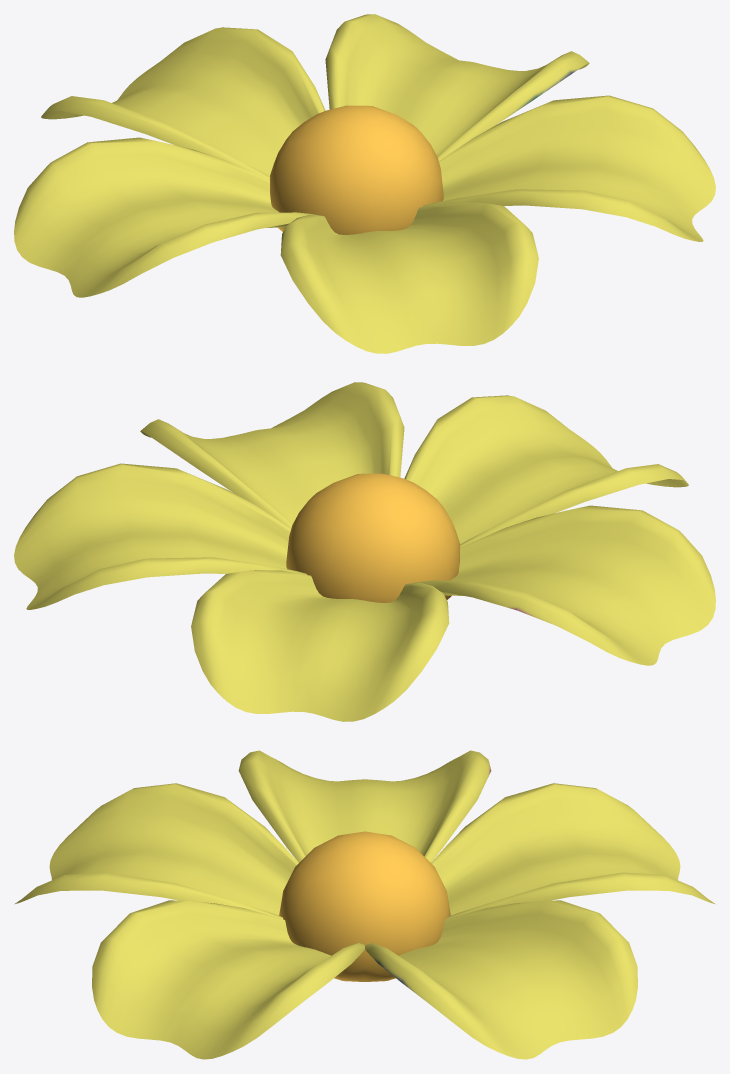
File: flower.fbx
The picture shows the model from 3 angles, top to bottom: view 1: azimuth 30°, elevation 25°; view 2: azimuth 150°, elevation 25°; view 3: azimuth 270°, elevation 25°; orthographic projection.
Parts seen in each view (by area): view 1: Petal2, Petal1, Petal3, Petal5, Petal4, FlowerHead; view 2: Petal5, Petal1, Petal4, Petal2, Petal3, FlowerHead; view 3: Petal3, Petal4, Petal2, Petal5, FlowerHead, Petal1.
Part boxes in pixels (x1,y1,x2,y2): Petal2: [280, 202, 538, 353]; Petal1: [14, 137, 317, 297]; Petal3: [423, 95, 715, 241]; Petal5: [41, 27, 325, 179]; Petal4: [325, 14, 589, 160]; FlowerHead: [269, 105, 443, 234]; Petal5: [191, 570, 449, 721]; Petal1: [412, 505, 715, 665]; Petal4: [14, 463, 306, 609]; Petal2: [404, 395, 688, 547]; Petal3: [140, 382, 404, 528]; FlowerHead: [286, 473, 460, 602]; Petal3: [92, 900, 364, 1059]; Petal4: [365, 900, 637, 1059]; Petal2: [14, 783, 298, 919]; Petal5: [431, 783, 715, 919]; FlowerHead: [279, 831, 450, 981]; Petal1: [238, 750, 491, 862].
Bounding box in the file's own units: 1.07 × 0.2095 × 1.11.
